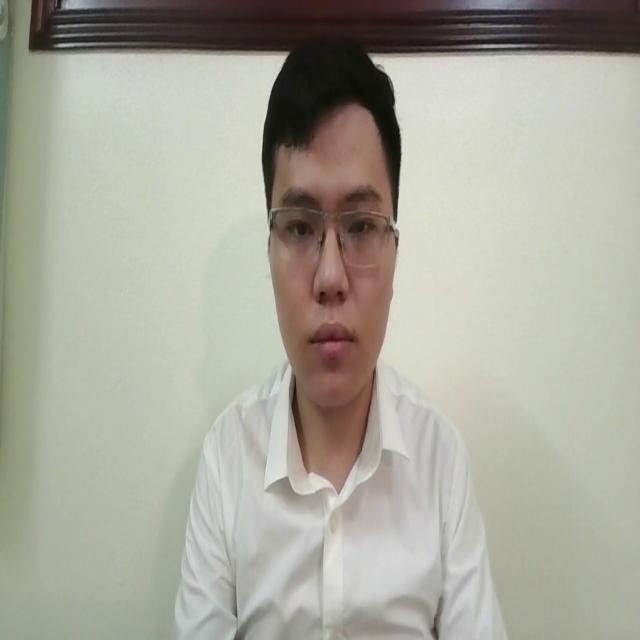student: (176, 33, 507, 640)
